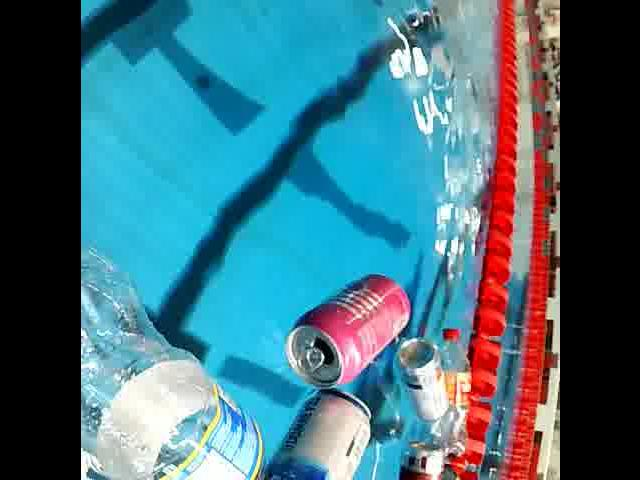Bottle: (80, 231, 288, 480), (427, 322, 473, 463)
Can: (281, 264, 413, 397), (244, 379, 376, 480), (392, 334, 448, 430), (388, 435, 446, 480), (433, 461, 461, 480)
